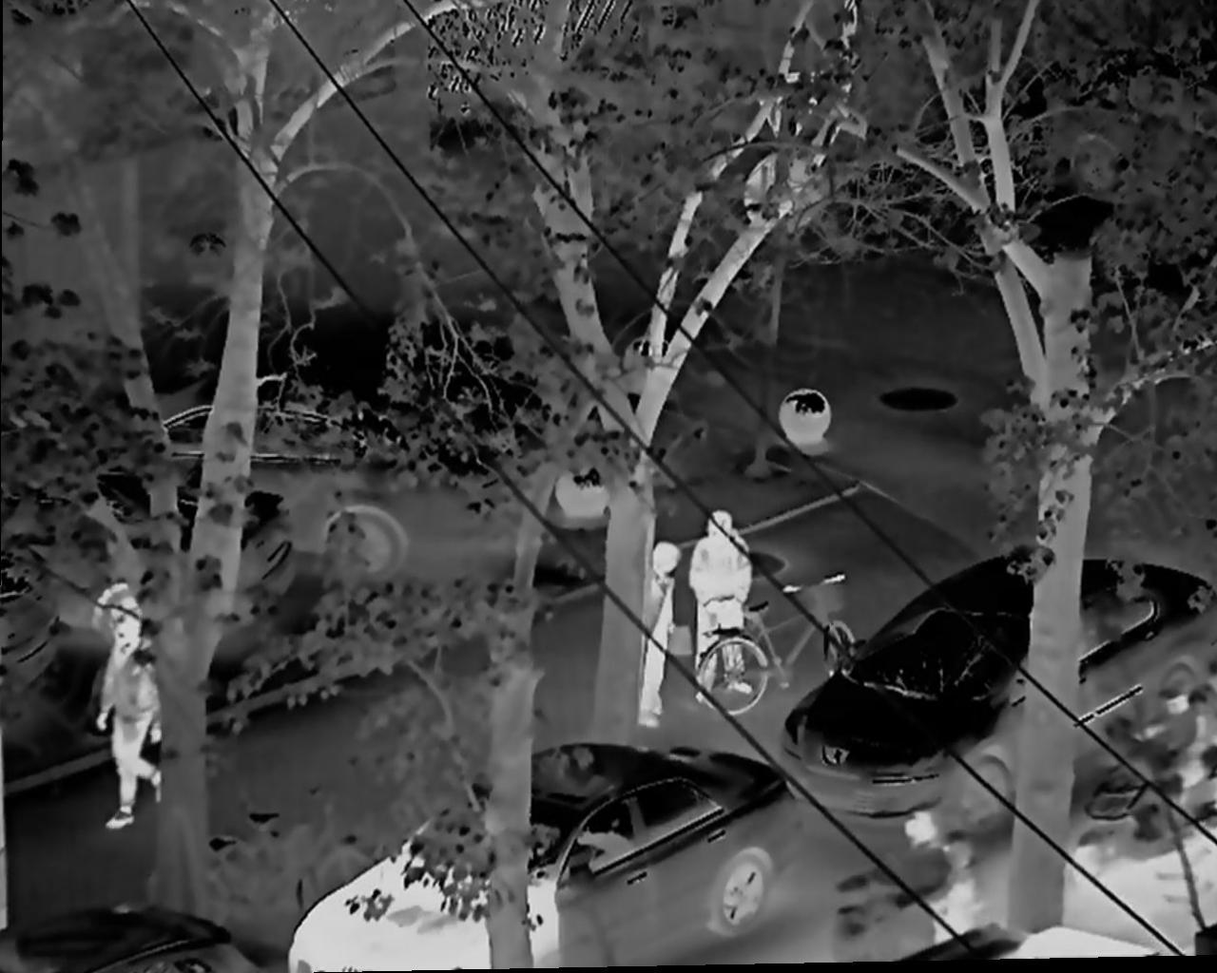person: (96, 597, 163, 831), (689, 509, 751, 701), (639, 541, 677, 728)
